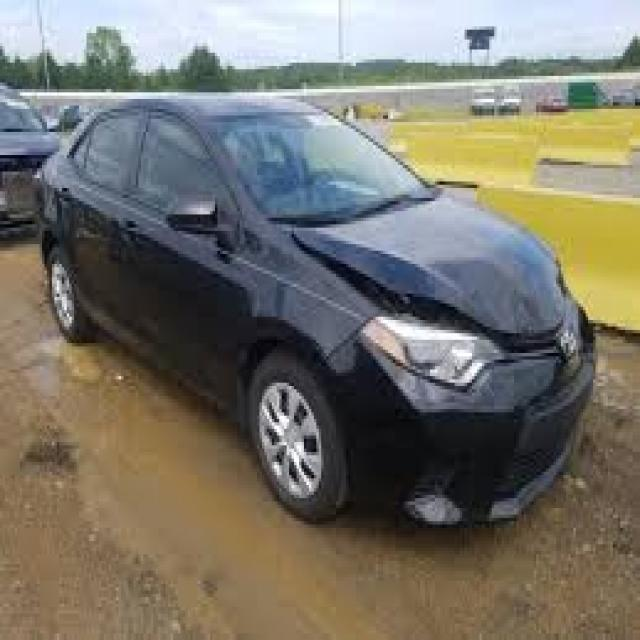moderate: (287, 211, 640, 496)
